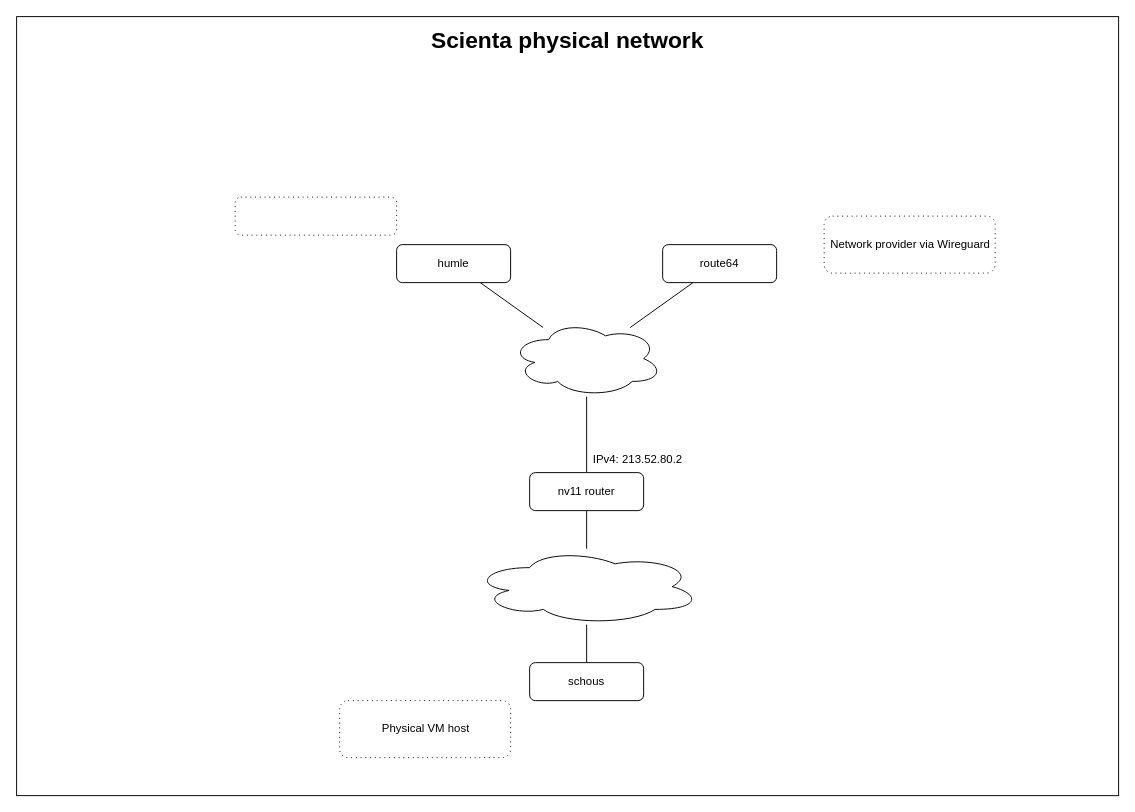
This 1135x812 diagram has some shape labels left out. The shapes that lost their labels are listed below. From the top down, each one's centre as x and y in pixels, then its label:
[315,215]: Scaleway cloud VM
[586,358]: Internet
[586,586]: Office LAN IPv4: DHCP 10.1.74.0/24 IPv6: no
